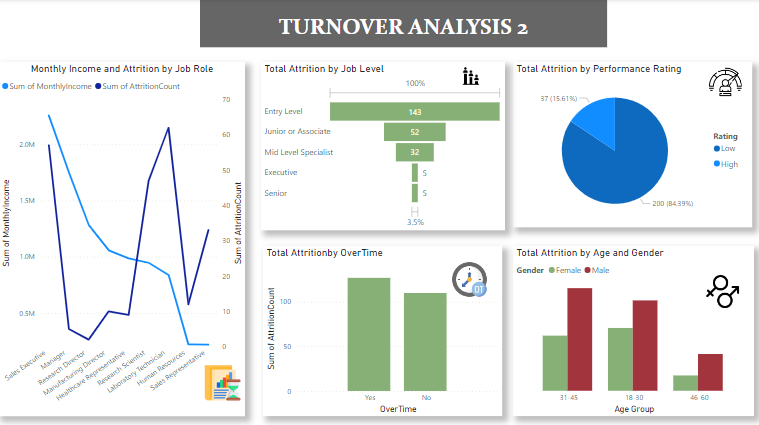

The page's visual inventory and layout, read from the dashboard file:
{"tool":"powerbi","page":{"name":"page4","canvas":[1280,720],"ordinal":3},"visuals":[{"type":"clusteredColumnChart","title":"Total  Attrition  by Age and Gender","fields":{"Category":["HR-Employee-Attrition.Age Group"],"Y":["Sum(HR-Employee-Attrition.AttritionCount)"],"Series":["HR-Employee-Attrition.Gender"]},"box":[864,414.4,404.3,285.2],"z":0},{"type":"pieChart","title":"Total Attrition  by Performance  Rating","fields":{"Category":["HR-Employee-Attrition.Rating"],"Y":["Sum(HR-Employee-Attrition.AttritionCount)"]},"box":[864,105.7,400.9,276.8],"z":1000},{"type":"funnel","title":"Total Attrition by Job Level","fields":{"Category":["HR-Employee-Attrition.Job Position"],"Y":["Sum(HR-Employee-Attrition.AttritionCount)"]},"box":[441.2,105.7,409.3,281.8],"z":2000},{"type":"lineChart","title":" Monthly Income and Attrition by Job Role ","fields":{"Category":["HR-Employee-Attrition.JobRole"],"Y":["Sum(HR-Employee-Attrition.MonthlyIncome)"],"Y2":["Sum(HR-Employee-Attrition.AttritionCount)"]},"box":[0,105.7,414.4,593.9],"z":3000},{"type":"columnChart","title":"Total Attritionby OverTime","fields":{"Category":["HR-Employee-Attrition.OverTime"],"Y":["Sum(HR-Employee-Attrition.AttritionCount)"]},"box":[444.6,414.4,400.9,285.2],"z":4000},{"type":"image","box":[483.1,6.7,28.5,25.2],"z":5000},{"type":"image","box":[754.9,105.7,77.2,47],"z":6000},{"type":"image","box":[1187.7,105.7,65.4,67.1],"z":7000},{"type":"image","box":[1179.3,456.3,73.8,68.8],"z":8000},{"type":"image","box":[754.9,429.5,72.1,82.2],"z":9000},{"type":"image","box":[338.9,609,75.5,70.5],"z":10000},{"type":"textbox","box":[338.9,0,682.8,80.5],"z":11000}]}

Visuals, with their boxes in screenshot pixels (x1, y1, x2, y2), scaled from the page's 1280x720 canvas onto the 759x425 screenshot:
"Total  Attrition  by Age and Gender" clusteredColumnChart: [512,245,752,413]
"Total Attrition  by Performance  Rating" pieChart: [512,62,750,226]
"Total Attrition by Job Level" funnel: [262,62,504,229]
" Monthly Income and Attrition by Job Role " lineChart: [0,62,246,413]
"Total Attritionby OverTime" columnChart: [264,245,501,413]
image: [286,4,303,19]
image: [448,62,493,90]
image: [704,62,743,102]
image: [699,269,743,310]
image: [448,254,490,302]
image: [201,359,246,401]
textbox: [201,0,606,48]
